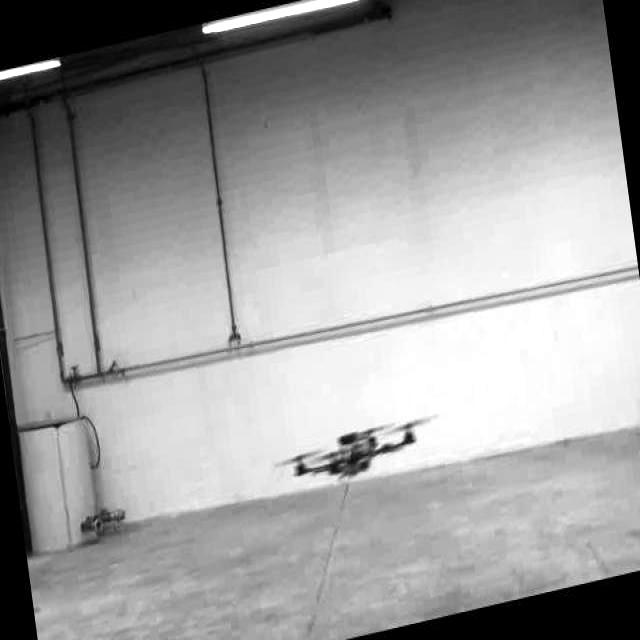drone: (270, 398, 443, 506)
